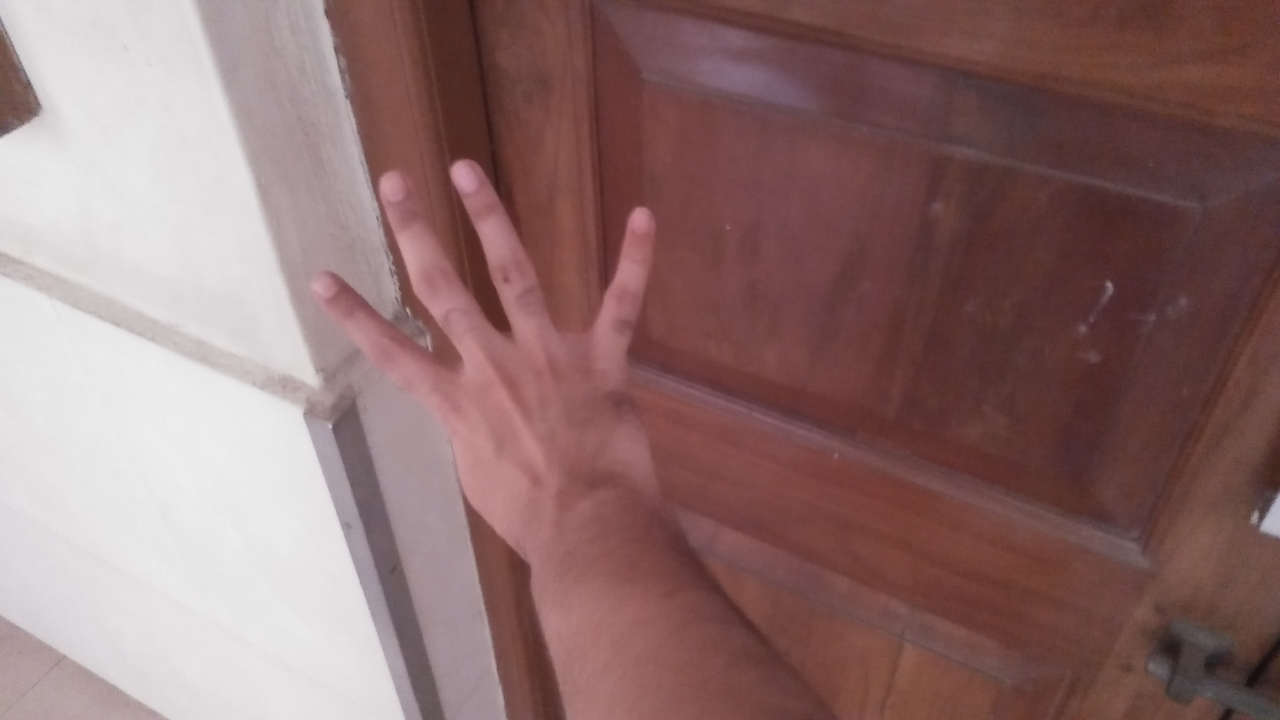fingertip: (438, 152, 504, 204), (368, 168, 420, 220), (614, 196, 666, 242), (302, 265, 340, 316)
